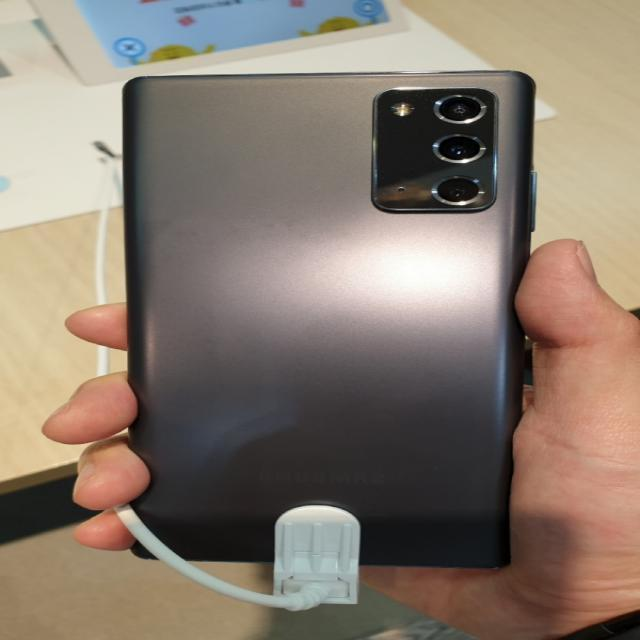mobile: (124, 69, 531, 560)
